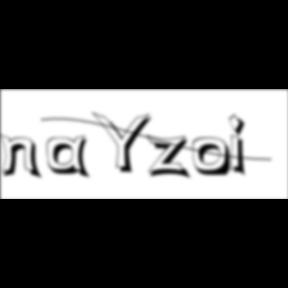Y: (92, 110, 158, 176)
a: (47, 135, 95, 182)
i: (229, 112, 253, 180)
n: (0, 132, 46, 181)
o: (192, 137, 234, 179)
z: (146, 134, 196, 182)
